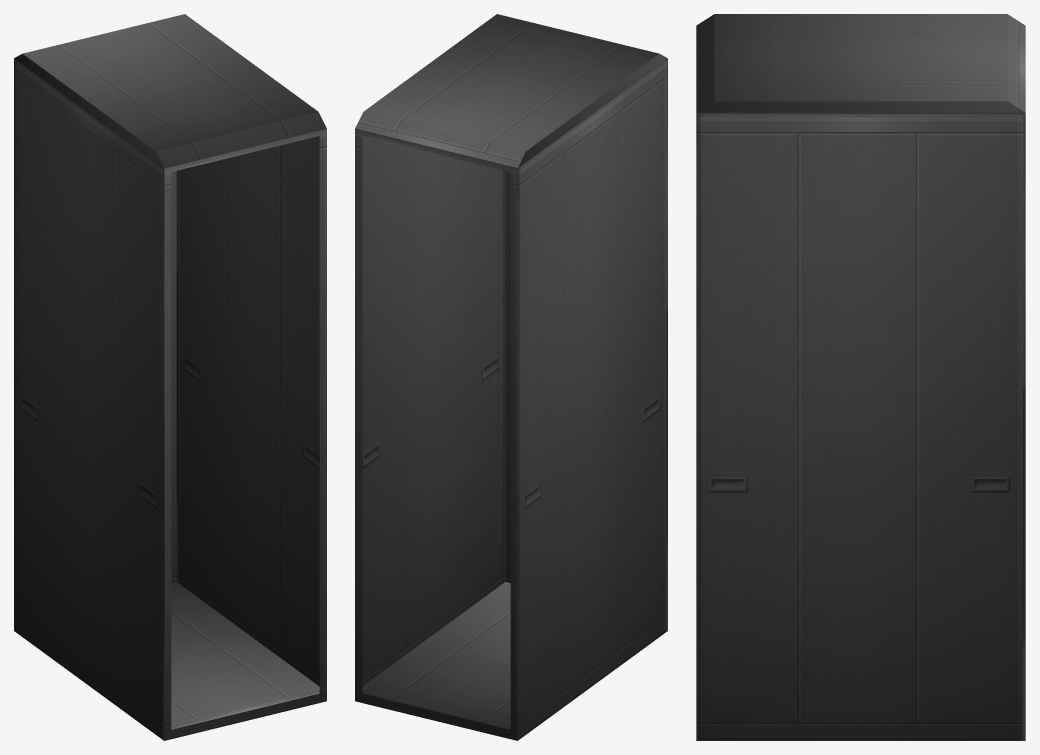
File: jigui1.obj
3 views of the same model, side by side, from view 1: azimuth 30°, elevation 25°; view 2: azimuth 150°, elevation 25°; view 3: azimuth 270°, elevation 25° (orthographic). The views are drawn at different scales.
Size of the model in its own units: 60 by 206 by 96.
